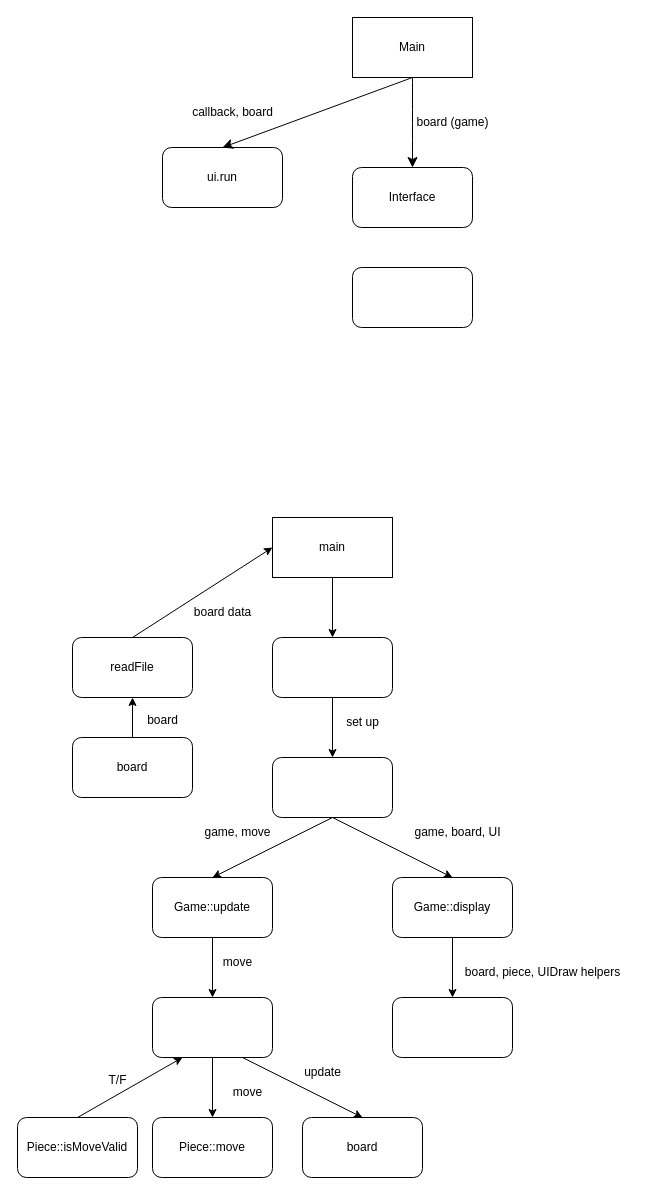
Some shapes in this 650 by 1195 pixel diagram are drawn without their labels. The centre of each missing label's shape, as x and y in pixels:
"Board::movePiece" belongs at (x=212, y=1027).
"drawCallback" belongs at (x=412, y=297).
"gameCallBack" belongs at (x=332, y=787).
"Interface::run()" belongs at (x=332, y=667).
"ogstream" belongs at (x=452, y=1027).
